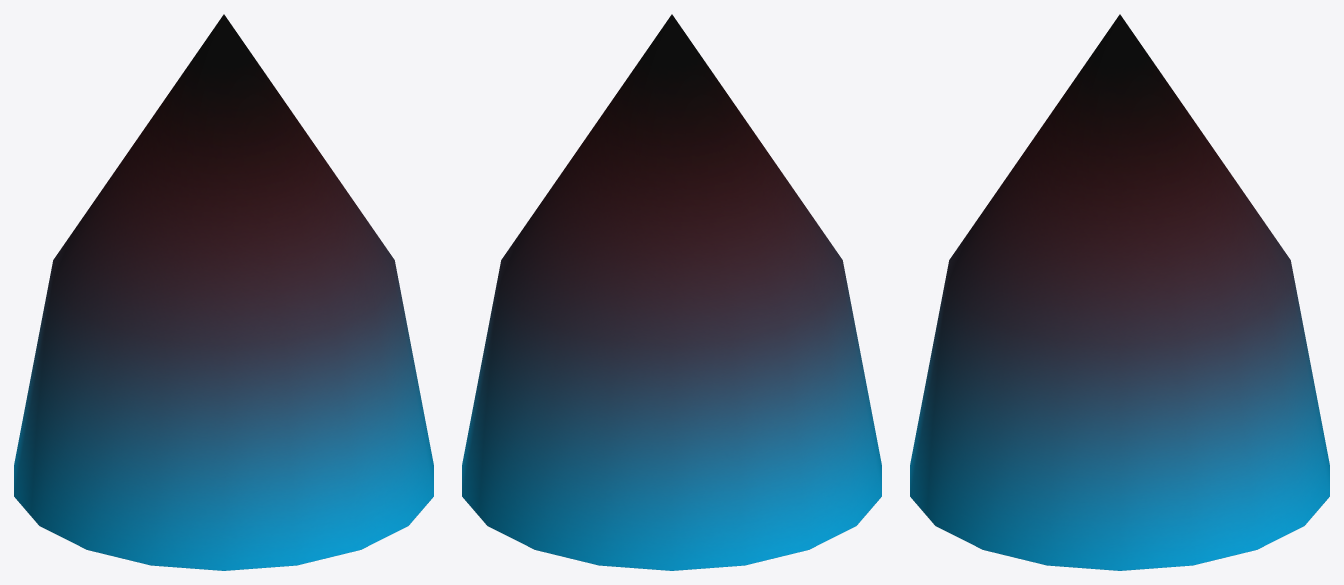
File: thruster_jetcone.FBX
The picture shows the model from 3 angles, left to right: view 1: azimuth 30°, elevation 25°; view 2: azimuth 150°, elevation 25°; view 3: azimuth 270°, elevation 25°; orthographic projection.
Visible parts, largest first — view 1: Cylinder001; view 2: Cylinder001; view 3: Cylinder001.
Part boxes in pixels (x1=…): Cylinder001: x1=14, y1=14, x2=433, y2=570; Cylinder001: x1=462, y1=14, x2=881, y2=570; Cylinder001: x1=910, y1=14, x2=1329, y2=570.
Size of the model in its own units: 32.59 by 39.37 by 32.09.
